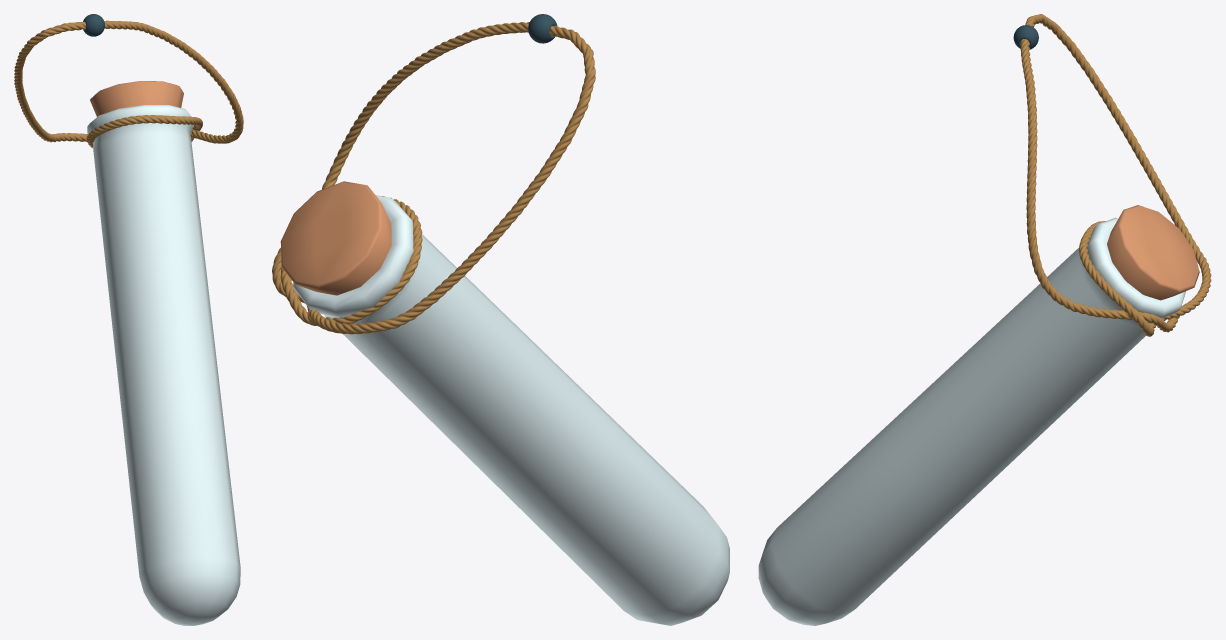
3 views of the same model, side by side, from view 1: azimuth 30°, elevation 25°; view 2: azimuth 150°, elevation 25°; view 3: azimuth 270°, elevation 25° (orthographic). The views are drawn at different scales.
Visible parts, largest first — view 1: Vial_lowpoly_2, Rope_4, Cork_2_lowpoly_3, Sphere_5; view 2: Vial_lowpoly_2, Rope_4, Cork_2_lowpoly_3, Sphere_5; view 3: Vial_lowpoly_2, Rope_4, Cork_2_lowpoly_3.
Boxes of the visible parts, <box> form: Vial_lowpoly_2: <box>87,105,240,625</box>; Rope_4: <box>14,20,243,147</box>; Cork_2_lowpoly_3: <box>90,81,183,116</box>; Sphere_5: <box>83,14,104,36</box>; Vial_lowpoly_2: <box>293,195,729,625</box>; Rope_4: <box>272,22,595,334</box>; Cork_2_lowpoly_3: <box>280,181,391,295</box>; Sphere_5: <box>528,14,557,43</box>; Vial_lowpoly_2: <box>758,217,1185,625</box>; Rope_4: <box>1020,14,1211,336</box>; Cork_2_lowpoly_3: <box>1107,205,1199,300</box>.
Size of the model in its own units: 0.6704 by 1.61 by 1.11.
